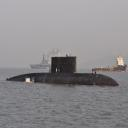submarine: (8, 57, 122, 87)
